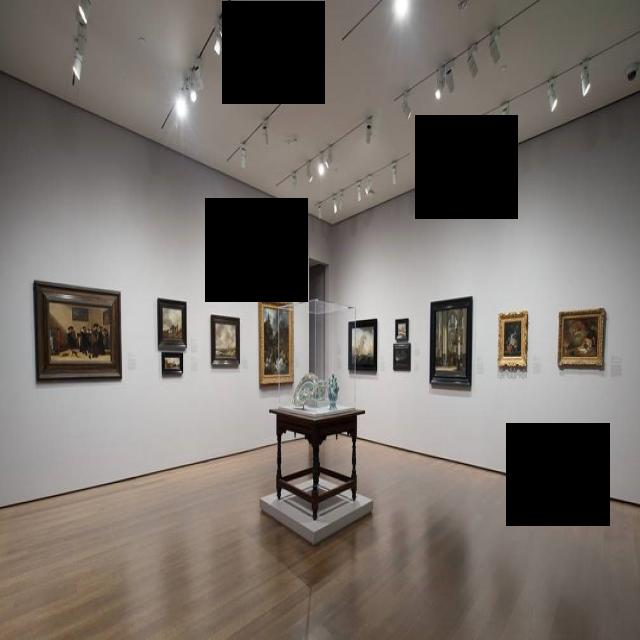Tablo: (48, 302, 112, 362), (435, 307, 467, 377), (263, 306, 289, 375), (562, 316, 599, 358), (351, 325, 374, 365), (214, 323, 236, 357), (162, 307, 183, 340), (503, 320, 521, 358), (164, 356, 180, 371)
